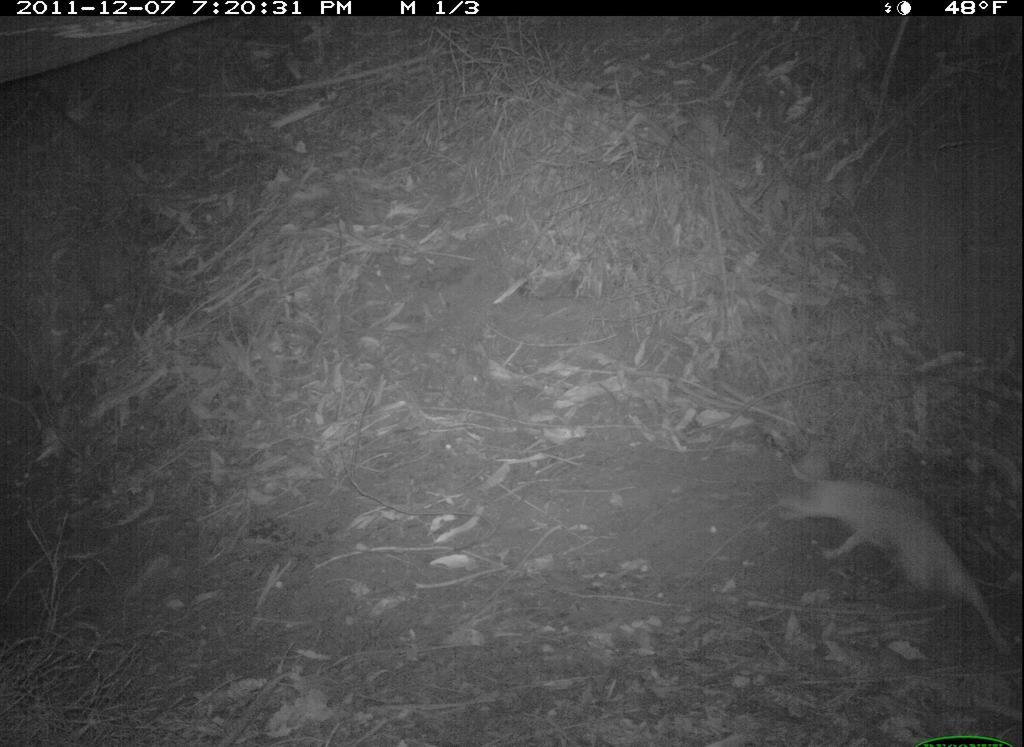dog: (772, 455, 1022, 676)
